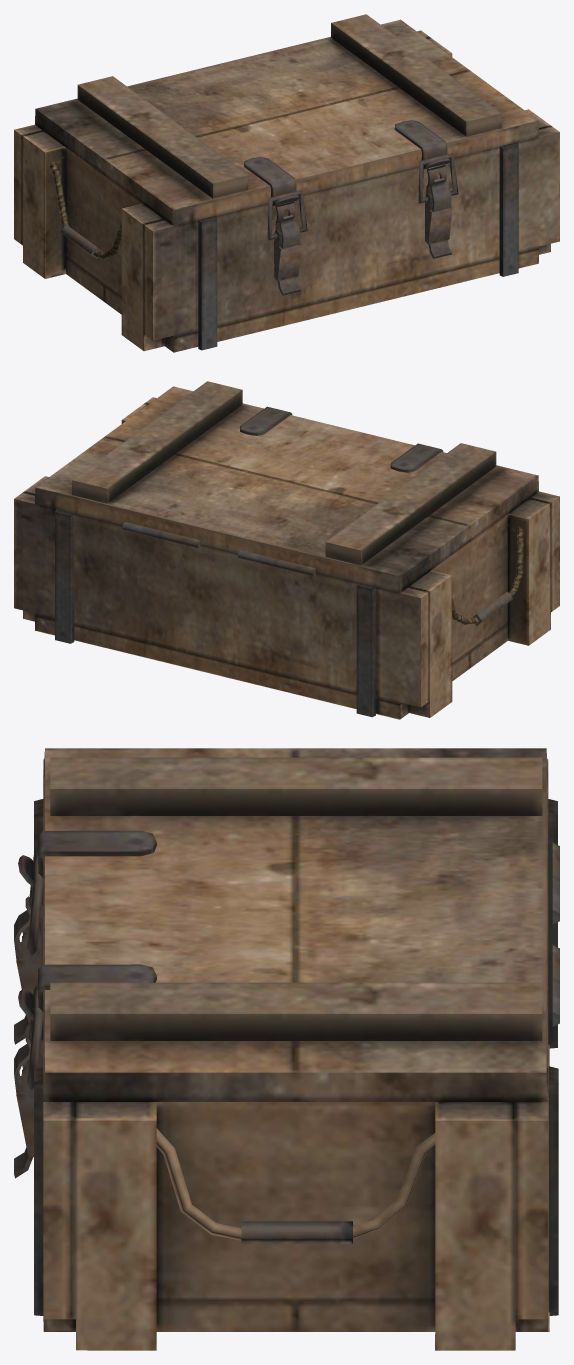
3 views of the same model, one above another, from view 1: azimuth 30°, elevation 25°; view 2: azimuth 150°, elevation 25°; view 3: azimuth 270°, elevation 25° (orthographic). The views are drawn at different scales.
Visible parts, largest first — view 1: Ammo_DropBox_013.mo.001; view 2: Ammo_DropBox_013.mo.001; view 3: Ammo_DropBox_013.mo.001.
Boxes of the visible parts, x1,y1,x2,y2 form: Ammo_DropBox_013.mo.001: [14, 14, 559, 352]; Ammo_DropBox_013.mo.001: [14, 381, 559, 719]; Ammo_DropBox_013.mo.001: [14, 748, 559, 1350].
Size of the model in its own units: 583 by 211 by 359.
